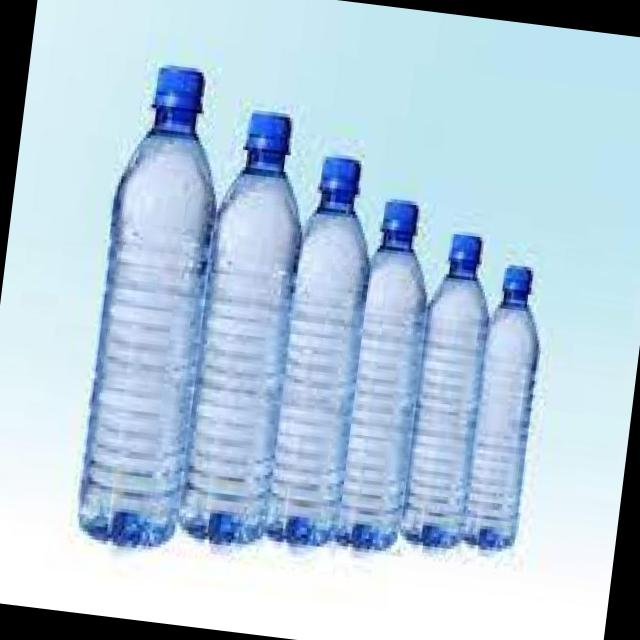plastic_bottle: (70, 60, 232, 556), (175, 105, 315, 550), (263, 150, 384, 552), (335, 196, 441, 555), (399, 220, 498, 550), (460, 262, 550, 556)
